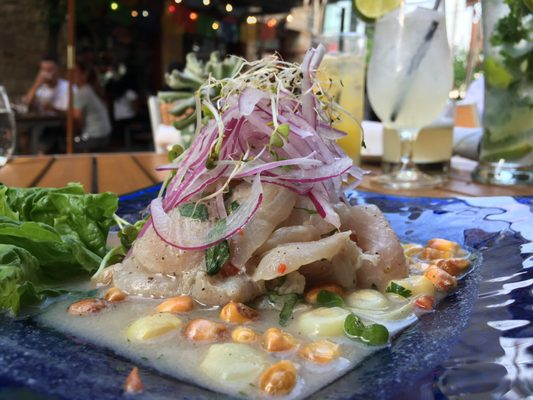curry: (4, 14, 531, 400)
sandwich: (364, 4, 454, 191)
soup: (471, 0, 533, 187)
